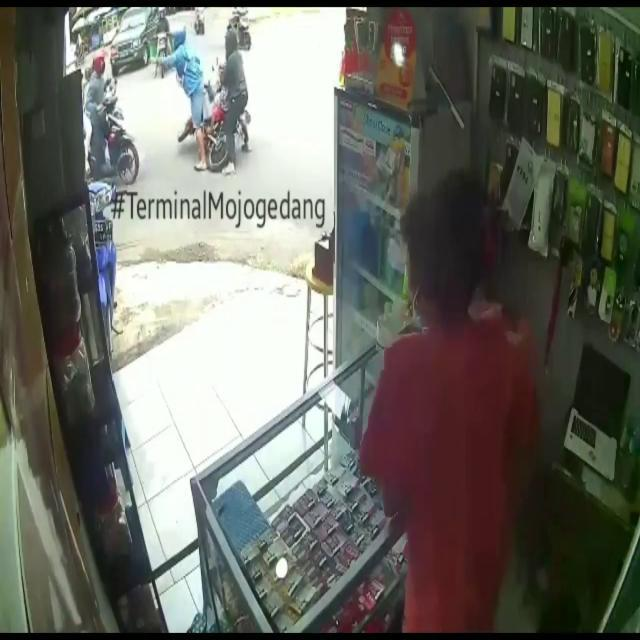multiple_accident: (133, 25, 265, 188)
normal: (65, 40, 168, 197)
